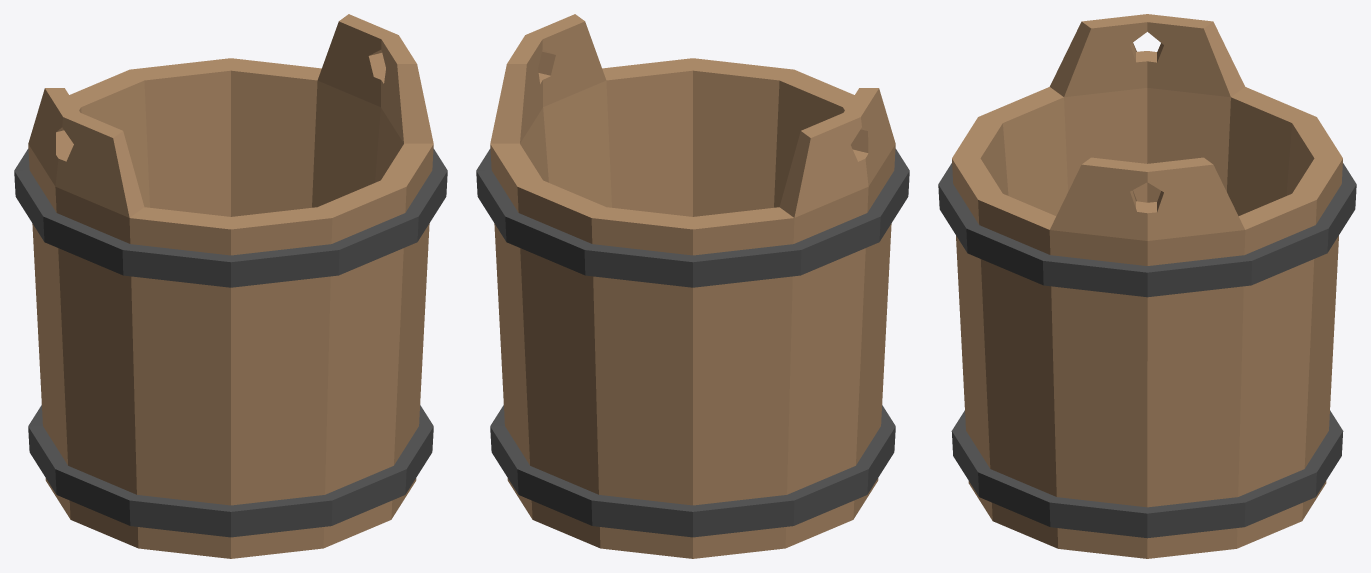
The model's file is bucket.glb.
3 renders of one model, left to right at view 1: azimuth 30°, elevation 25°; view 2: azimuth 150°, elevation 25°; view 3: azimuth 270°, elevation 25°, orthographic. The views are drawn at different scales.
Parts seen in each view (by area): view 1: Bucket (×2); view 2: Bucket (×2); view 3: Bucket (×2).
Boxes of the visible parts, x1=… form: Bucket (×2): x1=14, y1=14, x2=447, y2=558; Bucket (×2): x1=476, y1=14, x2=909, y2=558; Bucket (×2): x1=938, y1=14, x2=1356, y2=558.
Bounding box in the file's own units: 0.624 × 0.6424 × 0.624.
